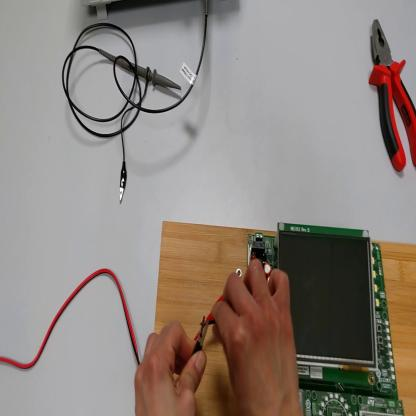hand: (212, 260, 301, 413), (133, 321, 205, 416)
low voltage board: (199, 219, 403, 415)
oscilloscope: (82, 1, 117, 17)
oscilloscope probe tip: (101, 52, 183, 93)
pliers: (369, 19, 416, 175)
working area: (157, 221, 416, 415)
